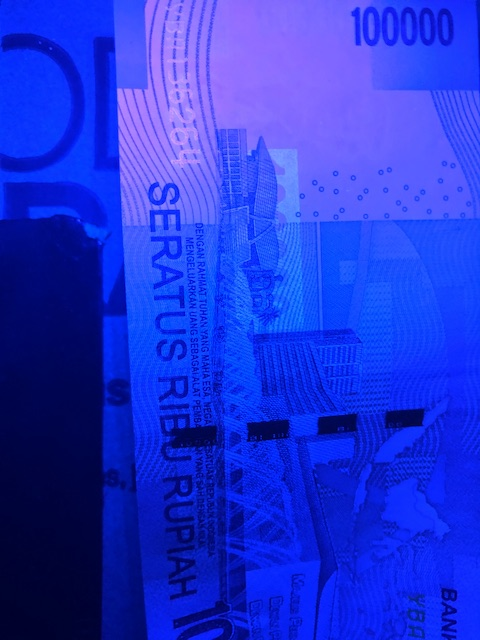100_RIBU_ASLI: (234, 147, 304, 335)
